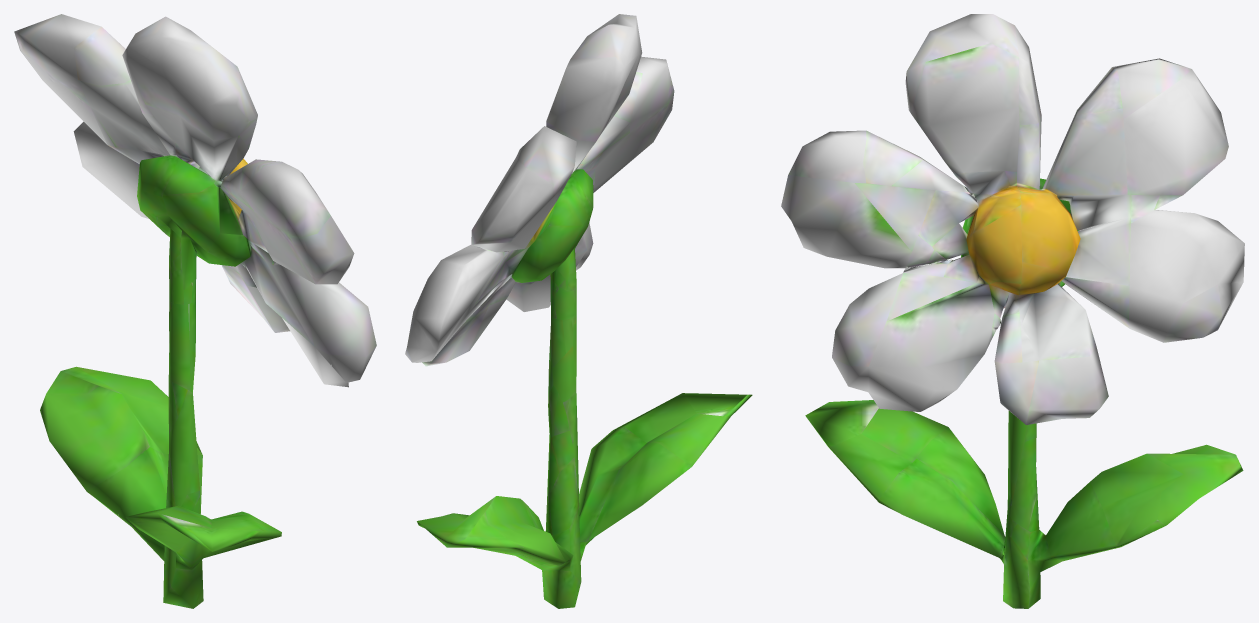
The model's file is daisy.glb.
The picture shows the model from 3 angles, left to right: view 1: azimuth 30°, elevation 25°; view 2: azimuth 150°, elevation 25°; view 3: azimuth 270°, elevation 25°; orthographic projection. The views are drawn at different scales.
Parts seen in each view (by area): view 1: tripo_node_3d0876c5-be20-4e4a-815f-adbfb64d3ddc; view 2: tripo_node_3d0876c5-be20-4e4a-815f-adbfb64d3ddc; view 3: tripo_node_3d0876c5-be20-4e4a-815f-adbfb64d3ddc.
Boxes of the visible parts, left/top/right/bottom form: tripo_node_3d0876c5-be20-4e4a-815f-adbfb64d3ddc: left=14, top=14, right=376, bottom=608; tripo_node_3d0876c5-be20-4e4a-815f-adbfb64d3ddc: left=405, top=14, right=752, bottom=608; tripo_node_3d0876c5-be20-4e4a-815f-adbfb64d3ddc: left=781, top=14, right=1244, bottom=608.
Size of the model in its own units: 0.3714 by 0.9769 by 0.718.
Materials: 1 (1 with a texture image).
